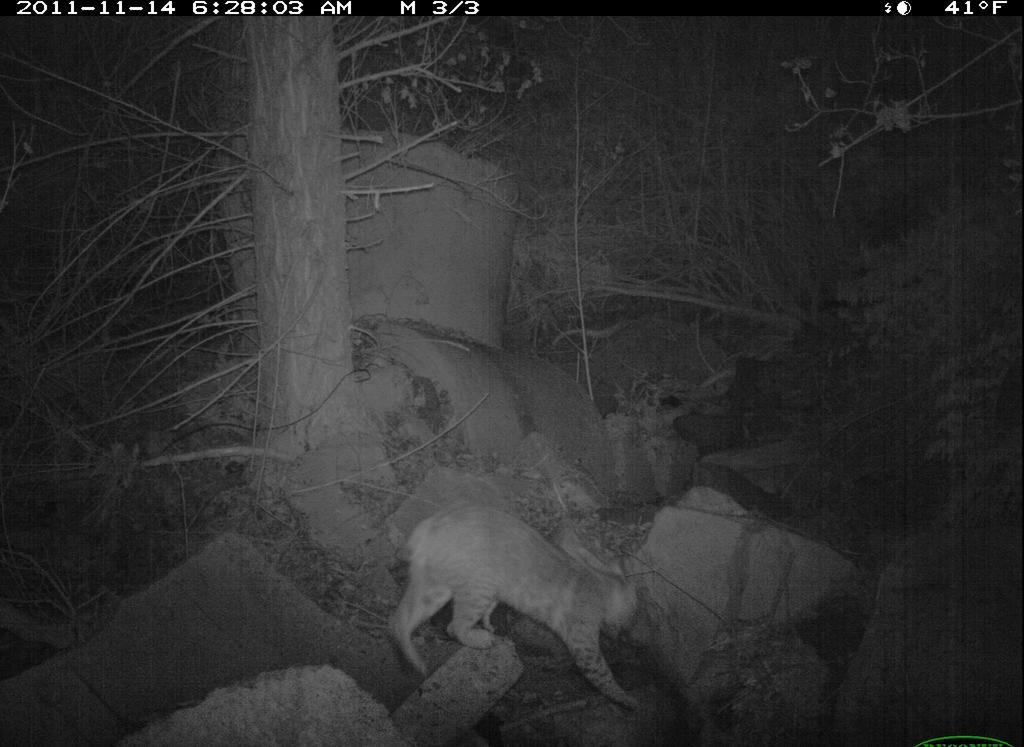bobcat: (393, 493, 643, 715)
